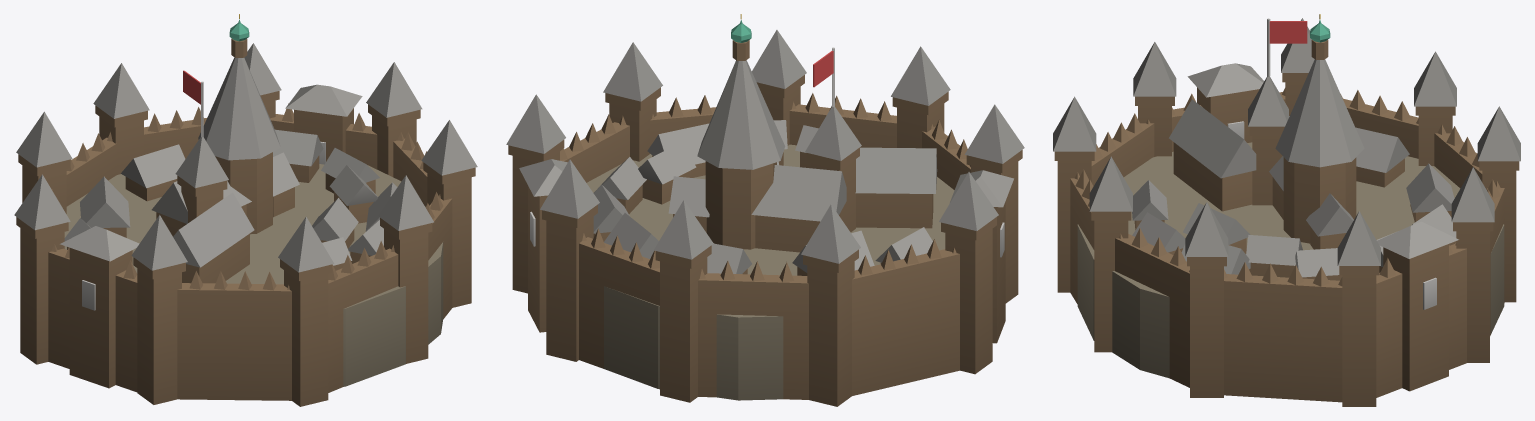
The model's file is town_rus_a.glb.
The picture shows the model from 3 angles, left to right: view 1: azimuth 30°, elevation 25°; view 2: azimuth 150°, elevation 25°; view 3: azimuth 270°, elevation 25°; orthographic projection. The views are drawn at different scales.
Parts seen in each view (by area): view 1: town_rus_a; view 2: town_rus_a; view 3: town_rus_a.
Boxes of the visible parts, <box> form: town_rus_a: <box>14,14,477,406</box>; town_rus_a: <box>506,14,1024,406</box>; town_rus_a: <box>1053,14,1520,406</box>.
Bounding box in the file's own units: 2.06 × 1.35 × 1.93.
